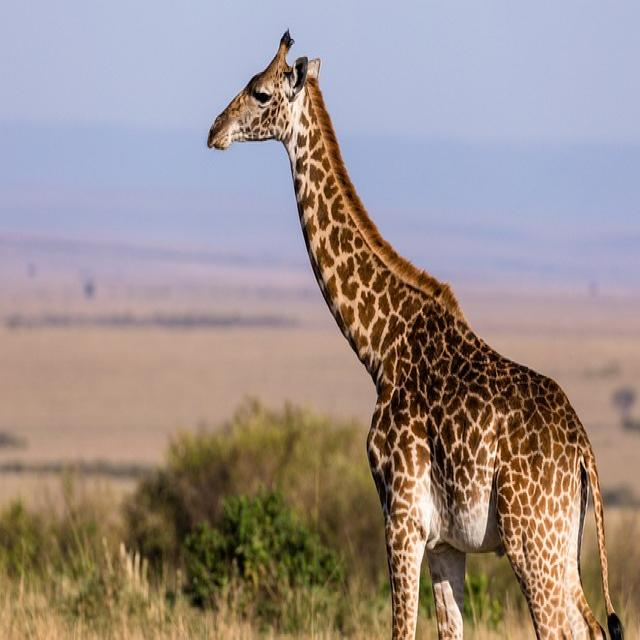Herbivorous: (205, 33, 624, 640)
